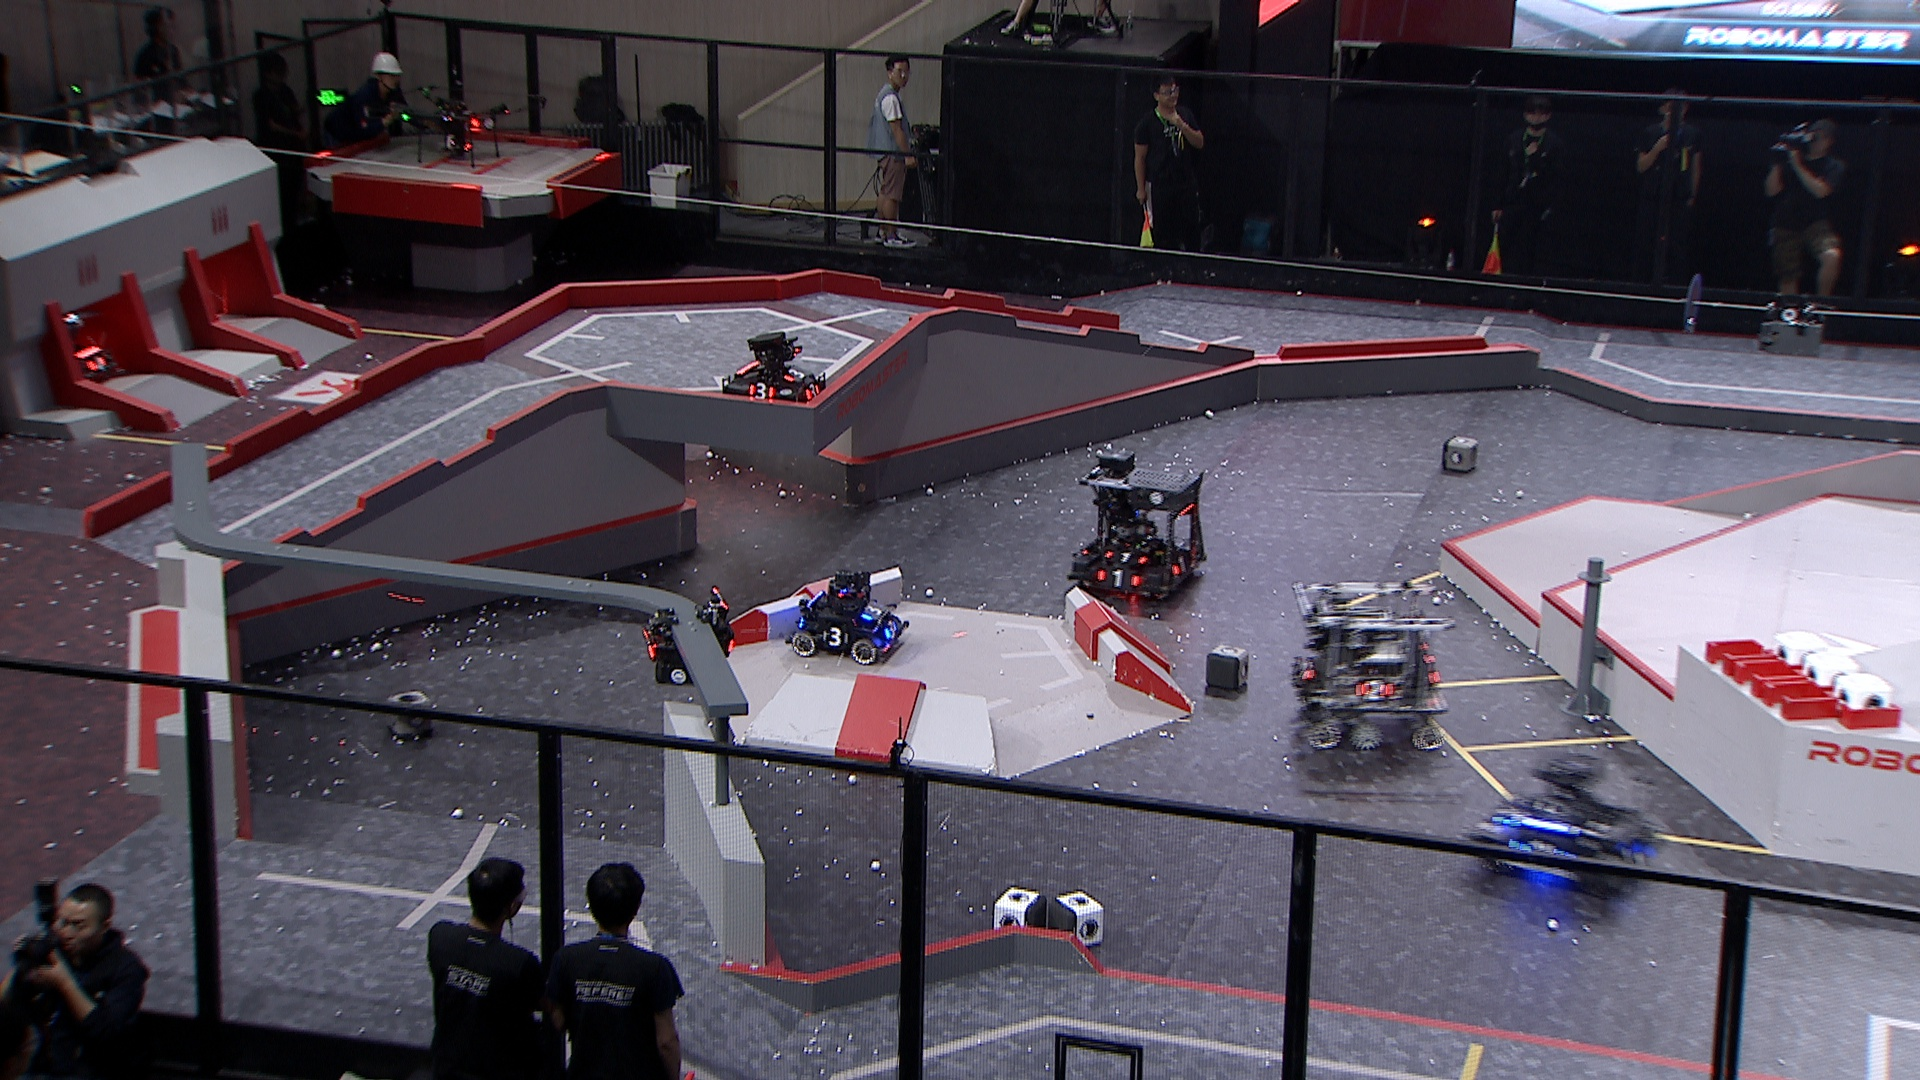armor: (1622, 833, 1654, 873), (1096, 566, 1141, 593), (1487, 803, 1528, 833), (1357, 675, 1396, 704), (1102, 545, 1150, 567), (638, 622, 659, 662), (1168, 546, 1195, 578), (816, 626, 855, 647), (1295, 651, 1319, 684), (880, 613, 905, 644), (778, 363, 808, 386), (799, 380, 825, 404), (746, 380, 775, 401), (80, 353, 109, 375), (858, 599, 882, 622)
car: (1462, 744, 1659, 895), (1288, 578, 1448, 750), (1064, 458, 1207, 605), (785, 566, 911, 665), (716, 328, 832, 413), (22, 311, 120, 386)
watcher: (638, 585, 740, 688)
